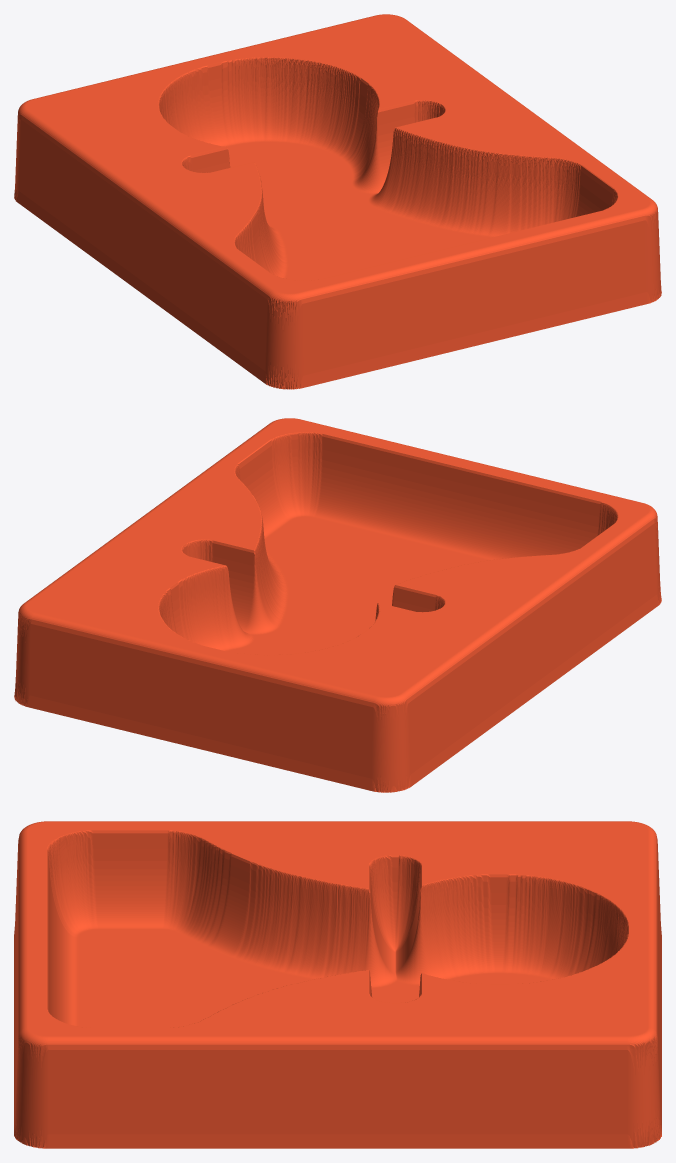
Rendered from mold.glb.
3 views of the same model, one above another, from view 1: azimuth 30°, elevation 25°; view 2: azimuth 150°, elevation 25°; view 3: azimuth 270°, elevation 25° (orthographic). The views are drawn at different scales.
Parts seen in each view (by area): view 1: geometry_0; view 2: geometry_0; view 3: geometry_0.
Part boxes in pixels (bbox=[...]): geometry_0: bbox=[14, 14, 661, 389]; geometry_0: bbox=[14, 418, 661, 792]; geometry_0: bbox=[14, 821, 661, 1148].
Size of the model in its own units: 0.1409 by 0.031 by 0.1709.
